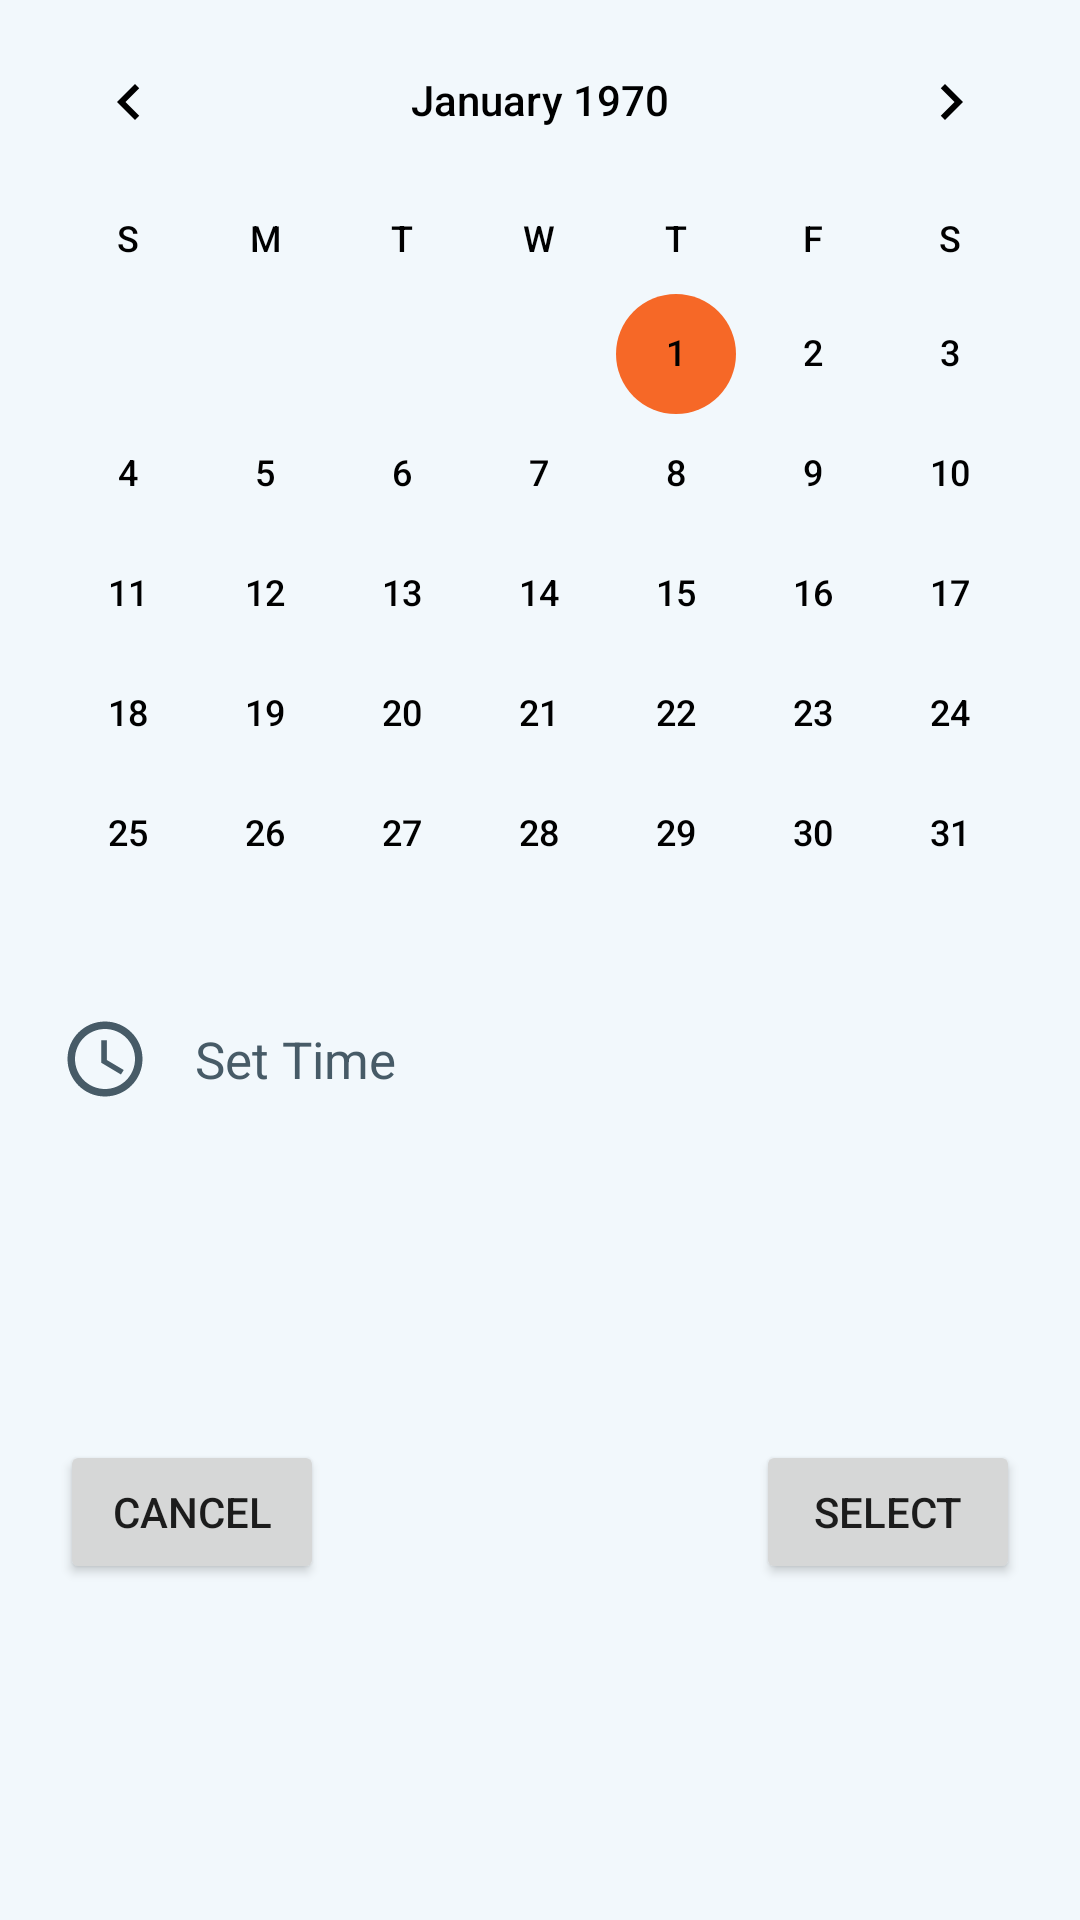

Where icons sit on this 1080*1920 app screen, as (left=x1, top=y1, right=x2, bottom=y2):
task deadline: (left=67, top=1021, right=143, bottom=1097)
